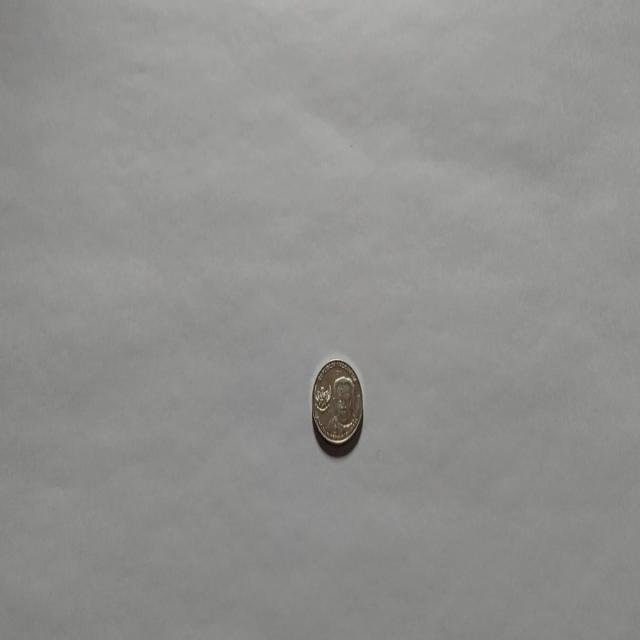seratus rupiah: (311, 358, 363, 447)
